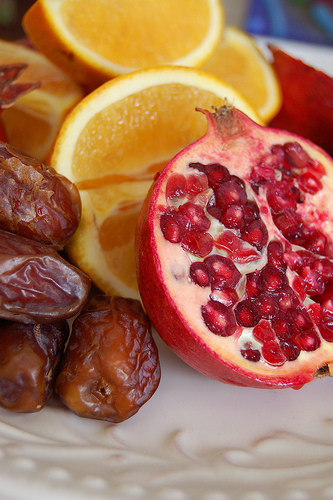pomogranate: (133, 101, 331, 391)
